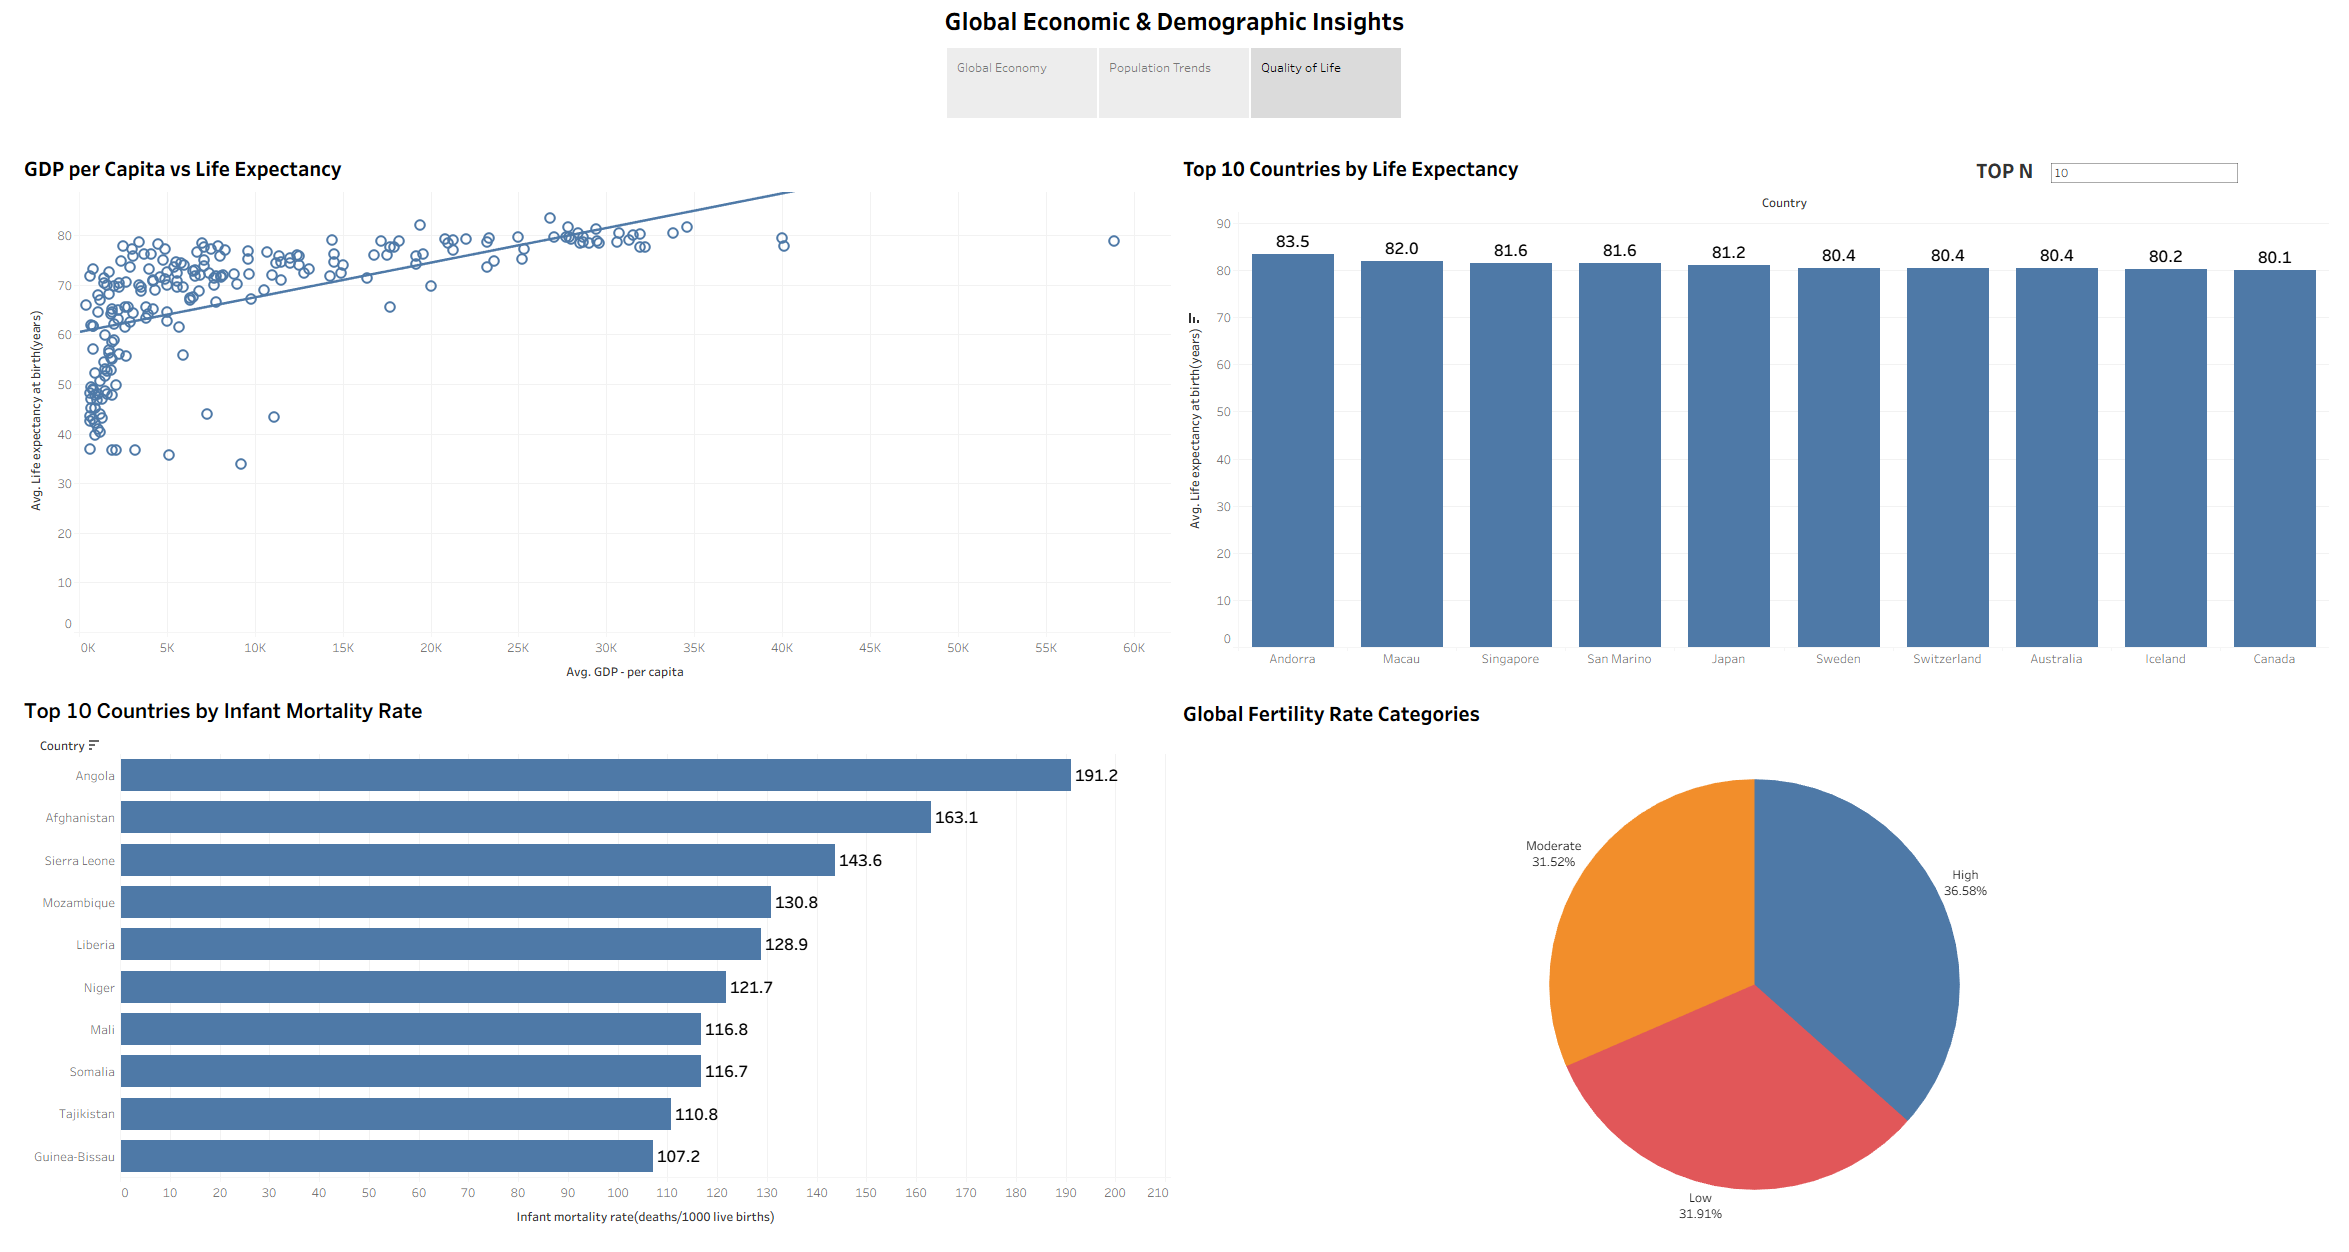

This screenshot's page, from the dashboard's own definition file:
{"tool":"tableau","page":{"name":"Economic Development & Quality of Life","canvas":[1000,1000],"units":"permille","ordinal":0},"visuals":[{"type":"worksheet","title":"GDP per Capita vs Life Expectancy","mark":"Automatic","rows":["Life expectancy at birth(years)"],"cols":["GDP - per capita"],"box":[3.4,6.4,496.6,493.6]},{"type":"worksheet","title":"Life Expectancy by Country","mark":"Automatic","rows":["Life expectancy at birth(years)"],"cols":["Country"],"box":[500,6.4,496.6,493.6]},{"type":"parameter","param":"[Parameters].[Parameter 1497045291749376]","box":[843.3,19.9,113.7,35]},{"type":"worksheet","title":"Infant Mortality by Country","mark":"Automatic","rows":["Country"],"cols":["Infant mortality rate(deaths/1000 live births)"],"box":[3.4,500,496.6,493.6]},{"type":"worksheet","title":"Fertility Rate Distribution","mark":"Pie","box":[500,500,496.6,493.6]}]}

Visuals, with their boxes on the dashboard's canvas, which has no fixed pixel size, in thousandths of its width and height (x1, y1, x2, y2). These are canvas units, not pixel positions in the 2349x1252 screenshot, which may show the page scaled, cropped or inside an application window:
"GDP per Capita vs Life Expectancy" worksheet: <bbox>3, 6, 500, 500</bbox>
"Life Expectancy by Country" worksheet: <bbox>500, 6, 997, 500</bbox>
parameter: <bbox>843, 20, 957, 55</bbox>
"Infant Mortality by Country" worksheet: <bbox>3, 500, 500, 994</bbox>
"Fertility Rate Distribution" worksheet (Pie marks): <bbox>500, 500, 997, 994</bbox>
